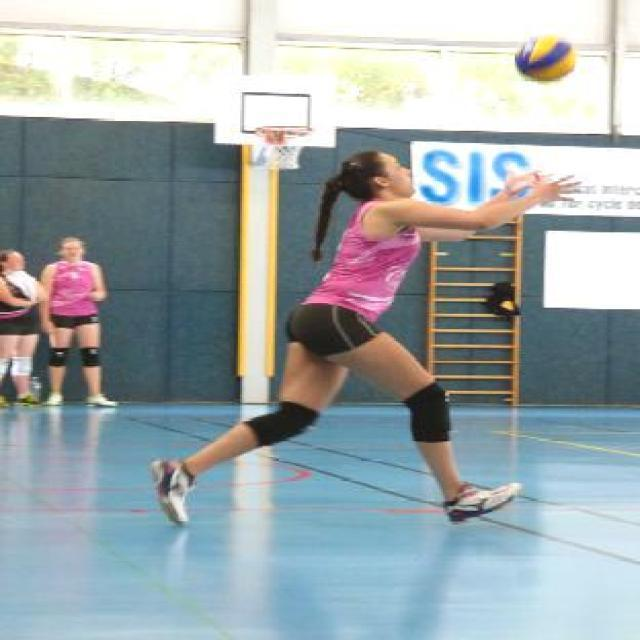volleyball: (516, 34, 576, 80)
